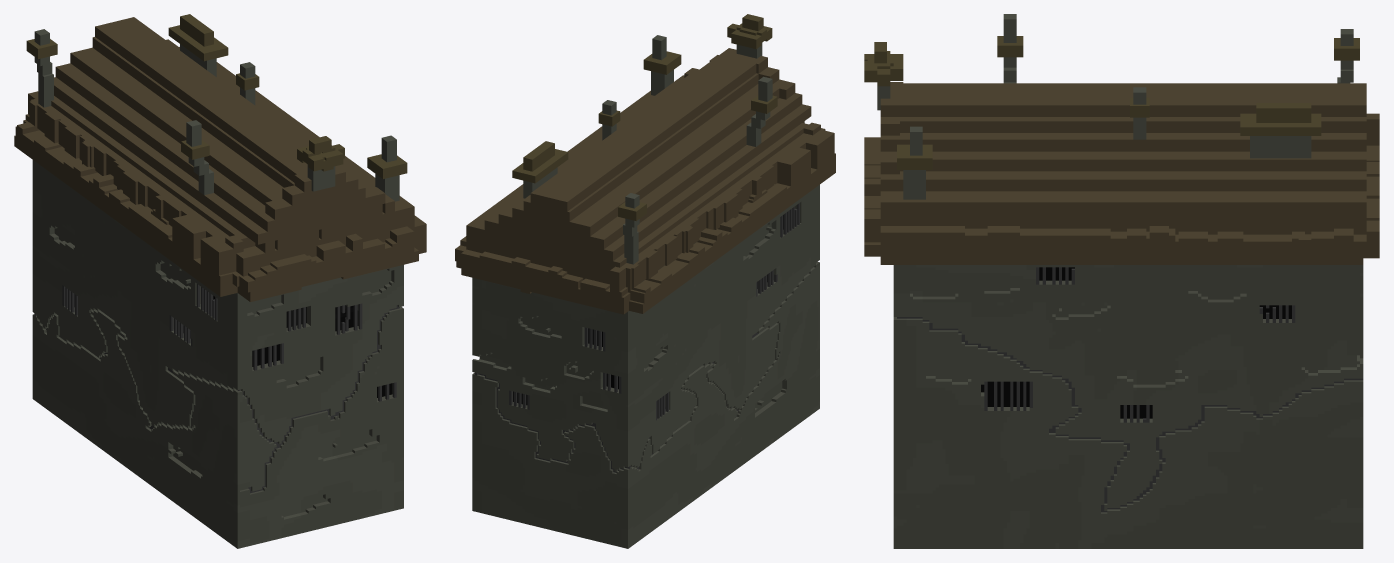
File: housev1.glb
3 views of the same model, side by side, from view 1: azimuth 30°, elevation 25°; view 2: azimuth 150°, elevation 25°; view 3: azimuth 270°, elevation 25° (orthographic). The views are drawn at different scales.
Visible parts, largest first — view 1: def_house; view 2: def_house; view 3: def_house.
Part boxes in pixels (x1,y1,x2,y2): def_house: [14, 14, 426, 548]; def_house: [455, 14, 835, 548]; def_house: [864, 14, 1379, 548].
Size of the model in its own units: 8.3 by 15.4 by 15.9.
Materials: 1 (1 with a texture image).
